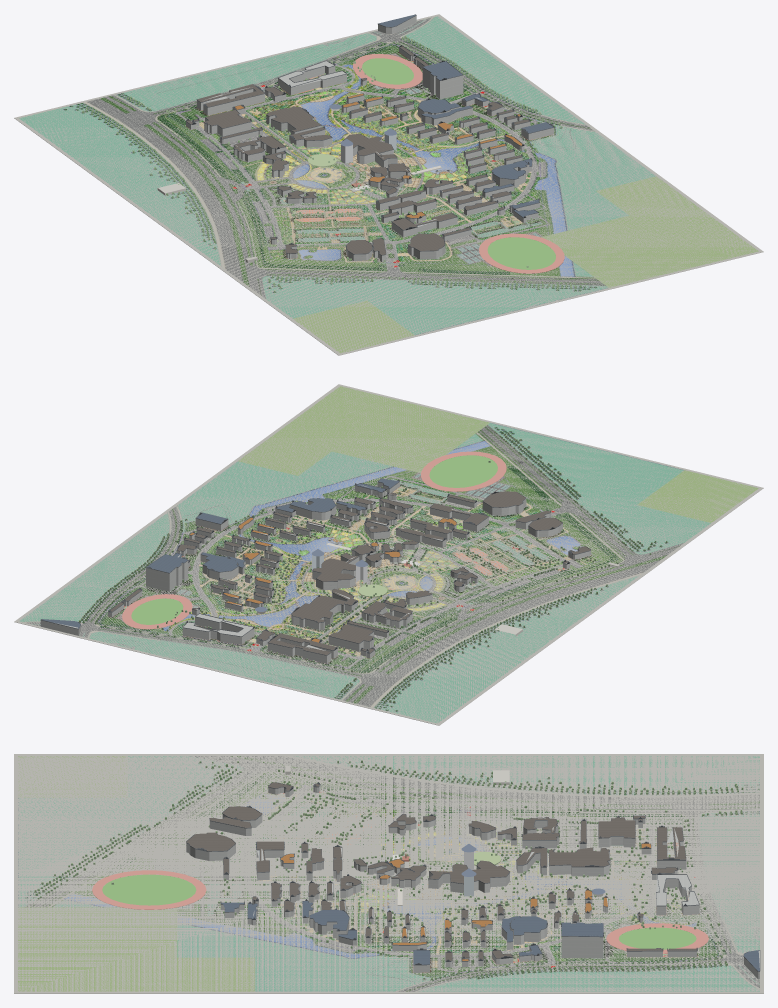
Rendered from campus_textured.glb.
The picture shows the model from 3 angles, top to bottom: view 1: azimuth 30°, elevation 25°; view 2: azimuth 150°, elevation 25°; view 3: azimuth 270°, elevation 25°; orthographic projection. The views are drawn at different scales.
Visible parts, largest first — view 1: 方山校区 1:1 轮廓 + 真实规划图地面; view 2: 方山校区 1:1 轮廓 + 真实规划图地面; view 3: 方山校区 1:1 轮廓 + 真实规划图地面.
Part boxes in pixels (x1,y1,x2,y2): 方山校区 1:1 轮廓 + 真实规划图地面: (14,14,763,355); 方山校区 1:1 轮廓 + 真实规划图地面: (14,384,763,725); 方山校区 1:1 轮廓 + 真实规划图地面: (14,754,763,993).
Size of the model in its own units: 1010 by 51.8 by 1336.
Materials: 25 (5 with a texture image).
